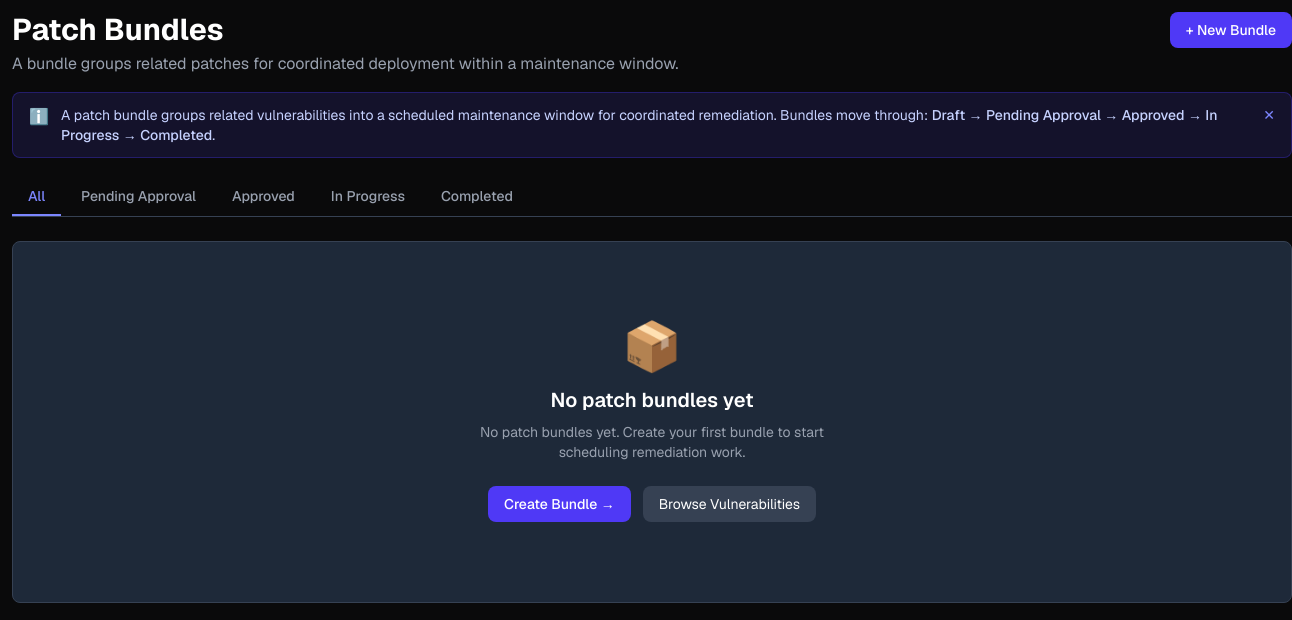
Scenario: BundlesPage — explainer banner › banner is dismissible — clicking ✕ hides it
Expected: the text "patch bundle groups related vulnerabilities" is shown, [61, 106, 932, 124]
Click the button named "dismiss": (1269, 115) [1263, 105, 1275, 125]
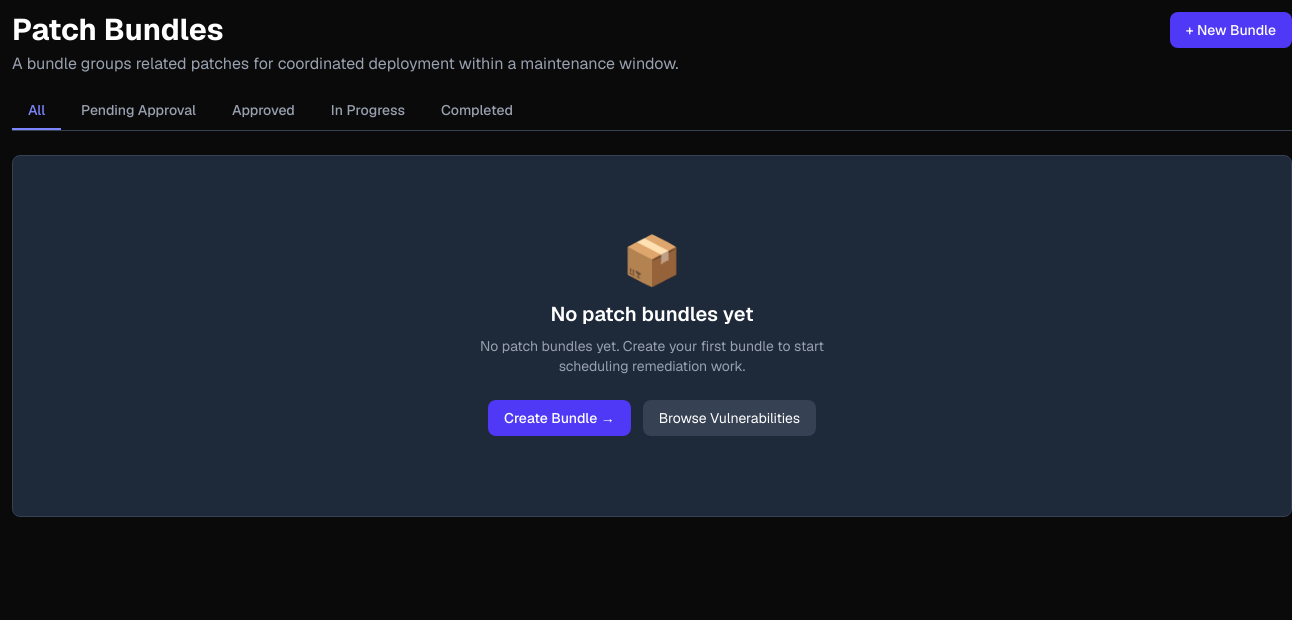
Expected: the text "patch bundle groups related vulnerabilities" is gone
